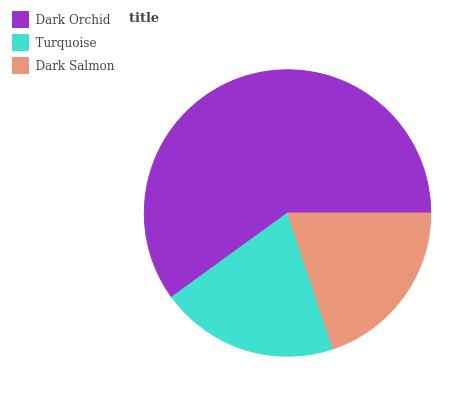legend: (4, 0, 123, 83)
sector: (144, 67, 431, 297), (169, 212, 332, 356), (288, 212, 432, 349)
